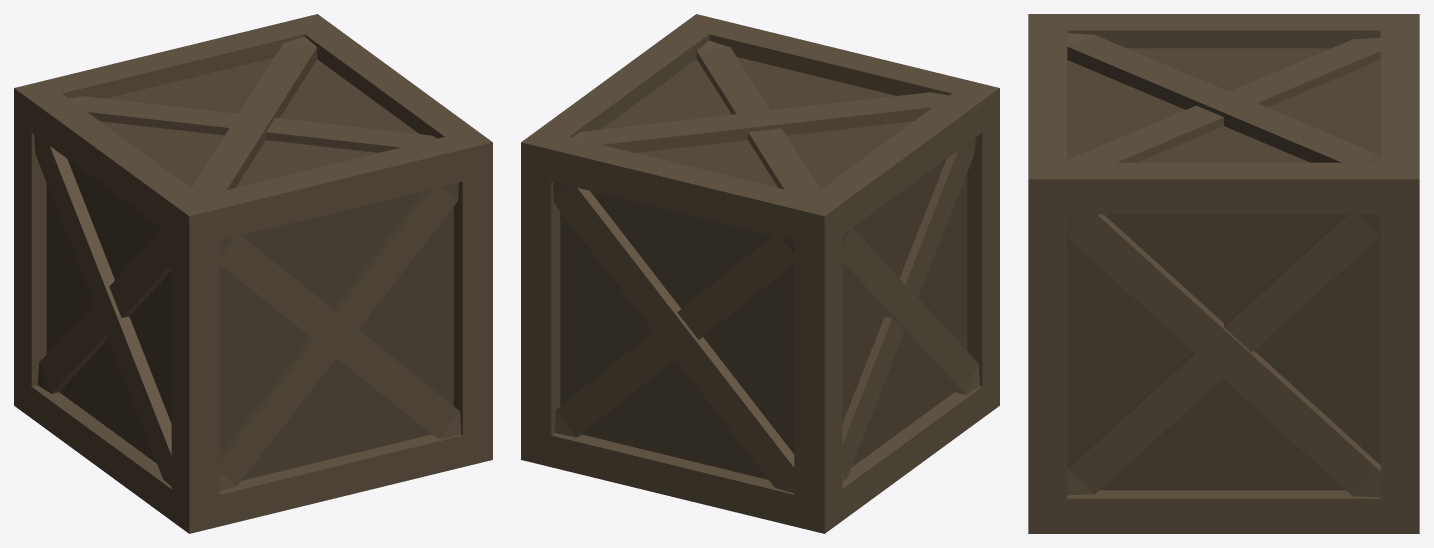
File: Crate.fbx
3 views of the same model, side by side, from view 1: azimuth 30°, elevation 25°; view 2: azimuth 150°, elevation 25°; view 3: azimuth 270°, elevation 25° (orthographic). The views are drawn at different scales.
Parts seen in each view (by area): view 1: Cube; view 2: Cube; view 3: Cube.
Part boxes in pixels (<box>): Cube: <box>14,14,492,533</box>; Cube: <box>521,14,999,533</box>; Cube: <box>1028,14,1419,533</box>.
Bounding box in the file's own units: 200 × 200 × 200.
